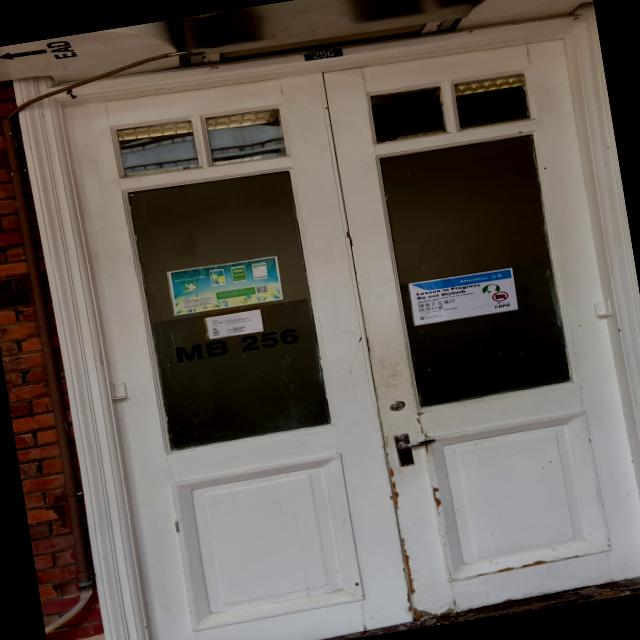room256: (301, 41, 351, 65)
room256Window: (168, 322, 312, 368)
